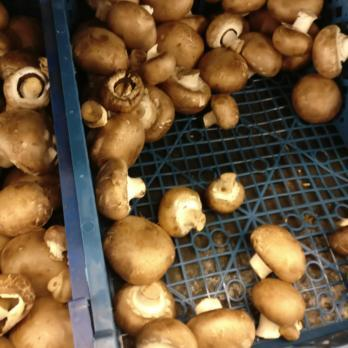Mushroom: (94, 159, 329, 348), (75, 0, 348, 156), (0, 6, 48, 348)
